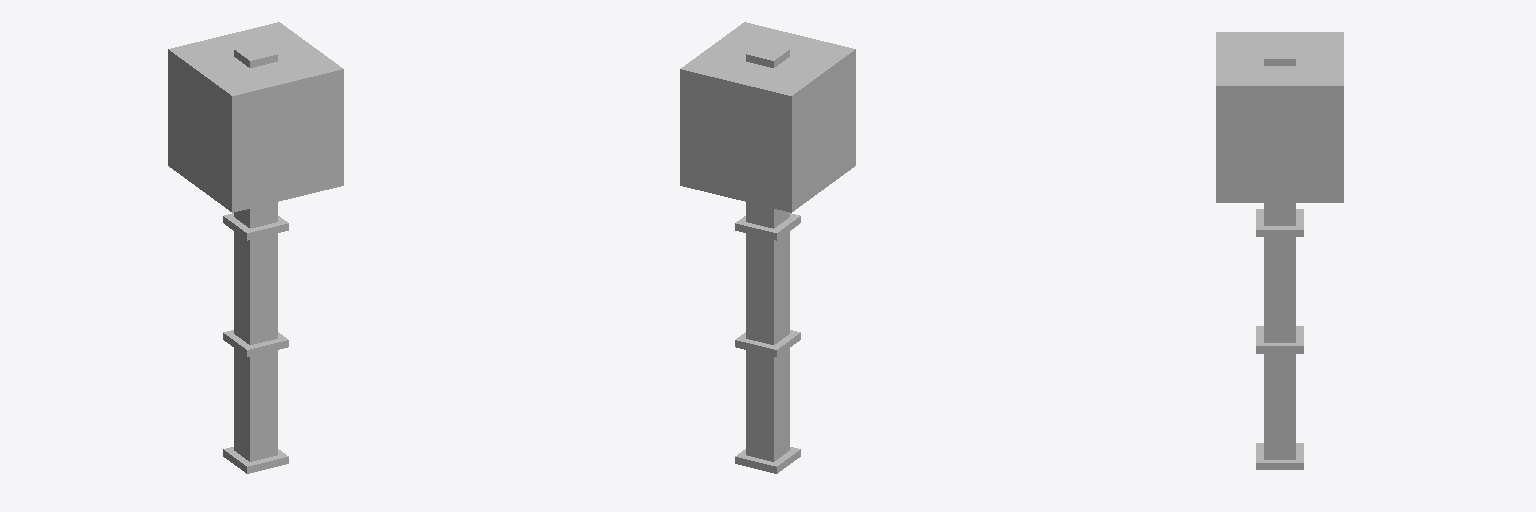
Rendered from essence_mixer.obj.
3 views of the same model, side by side, from view 1: azimuth 30°, elevation 25°; view 2: azimuth 150°, elevation 25°; view 3: azimuth 270°, elevation 25° (orthographic).
Visible parts, largest first — view 1: base, siphon_tube, cube, accelerator_interface; view 2: base, siphon_tube, cube, accelerator_interface; view 3: base, siphon_tube, cube, accelerator_interface.
Boxes of the visible parts, <box> form: base: <box>168,22,343,212</box>; siphon_tube: <box>234,202,277,461</box>; cube: <box>223,213,288,473</box>; accelerator_interface: <box>234,43,277,67</box>; base: <box>680,22,855,212</box>; siphon_tube: <box>746,202,789,461</box>; cube: <box>735,213,800,473</box>; accelerator_interface: <box>746,43,789,67</box>; base: <box>1216,32,1343,202</box>; siphon_tube: <box>1264,203,1295,459</box>; cube: <box>1256,209,1303,469</box>; accelerator_interface: <box>1264,45,1295,65</box>.
Bounding box in the file's own units: 1 × 3.5 × 1.